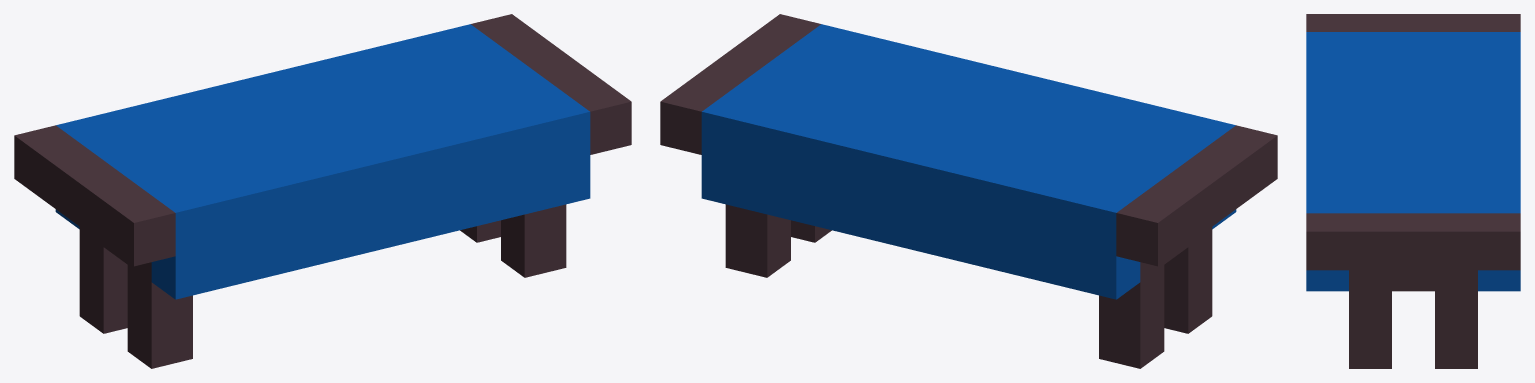
The model's file is large_bench_c_blue.obj.
The picture shows the model from 3 angles, left to right: view 1: azimuth 30°, elevation 25°; view 2: azimuth 150°, elevation 25°; view 3: azimuth 270°, elevation 25°; orthographic projection. The views are drawn at different scales.
Bounding box in the file's own units: 1.2 × 0.4 × 0.5.
1 material, 1 textured.
